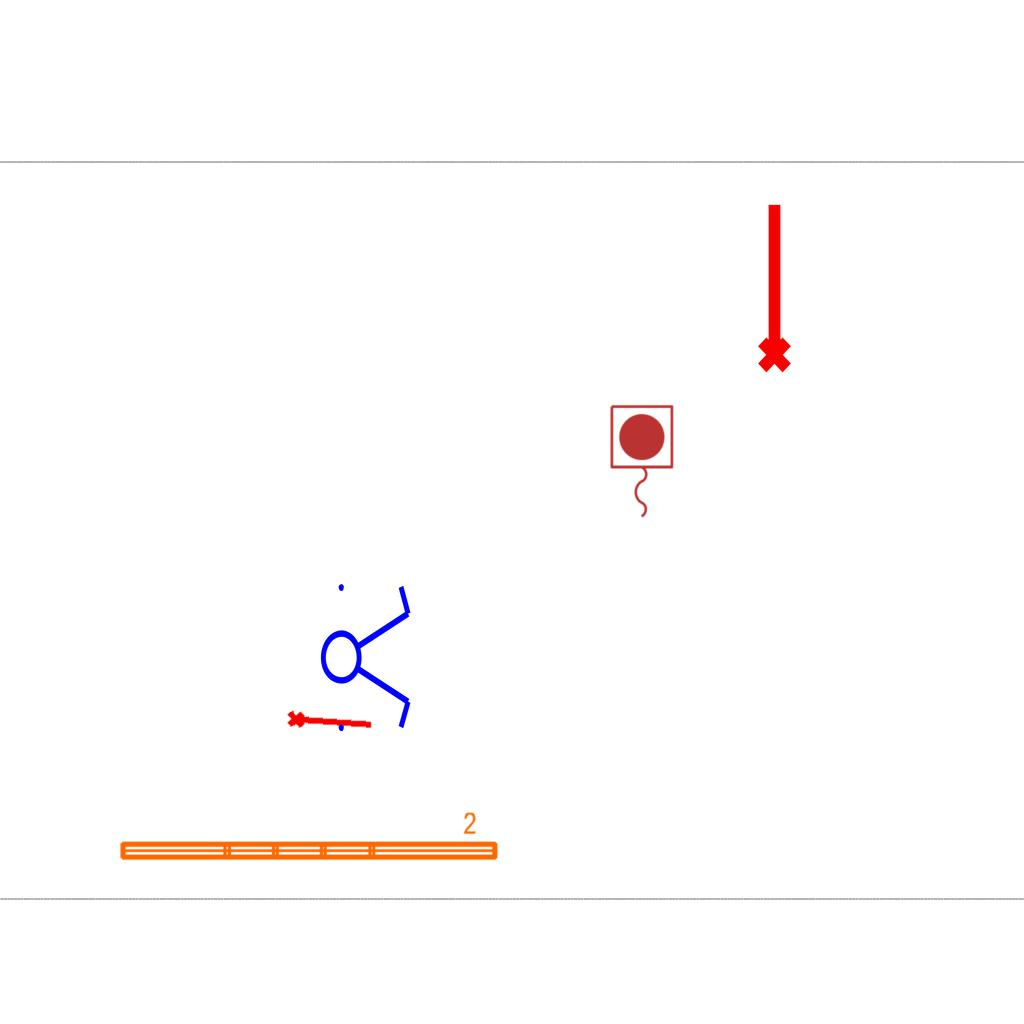ASR_Ansaugoeffnung: (749, 199, 795, 375), (285, 705, 375, 736)
Ambulanz_Pendelleuchte_LED: (115, 810, 502, 866)
Serienschalter: (319, 572, 415, 740)
Zugtaster: (605, 401, 677, 523)
